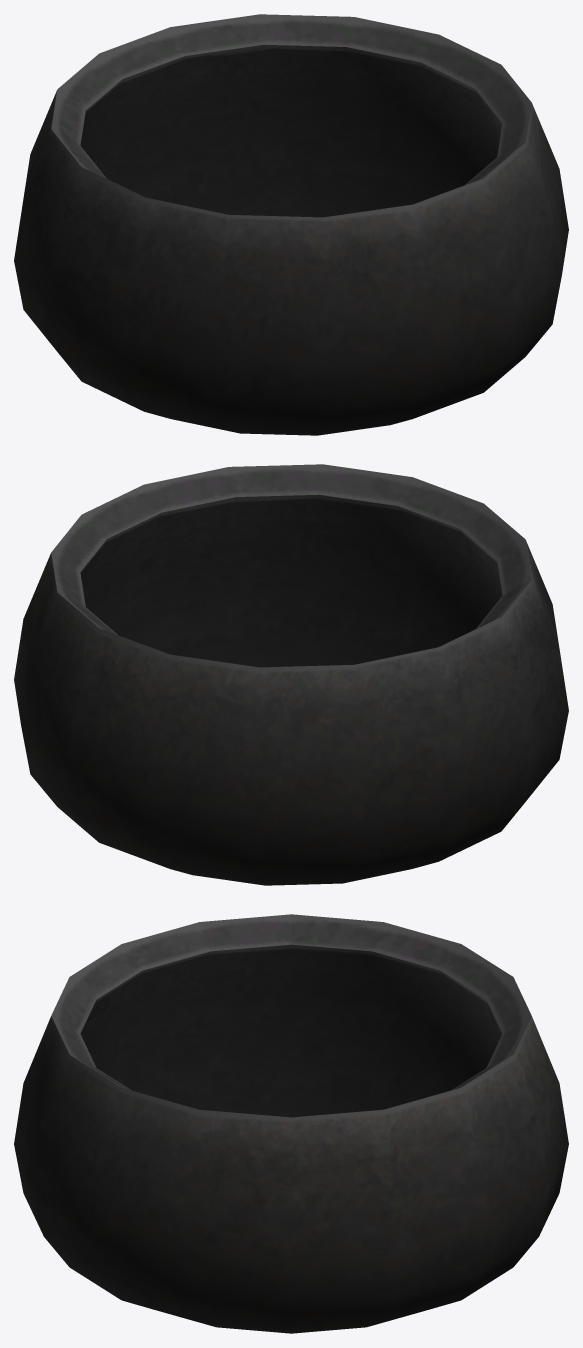
Rendered from Magic_Cauldron.fbx.
3 renders of one model, top to bottom at view 1: azimuth 30°, elevation 25°; view 2: azimuth 150°, elevation 25°; view 3: azimuth 270°, elevation 25°, orthographic.
Parts seen in each view (by area): view 1: Magic_Cauldron; view 2: Magic_Cauldron; view 3: Magic_Cauldron.
Boxes of the visible parts, bbox=[...] form: Magic_Cauldron: bbox=[14, 14, 568, 435]; Magic_Cauldron: bbox=[14, 464, 568, 885]; Magic_Cauldron: bbox=[14, 914, 568, 1333].
Bounding box in the file's own units: 0.9418 × 0.4744 × 0.9418.
Materials: 1 (1 with a texture image).
